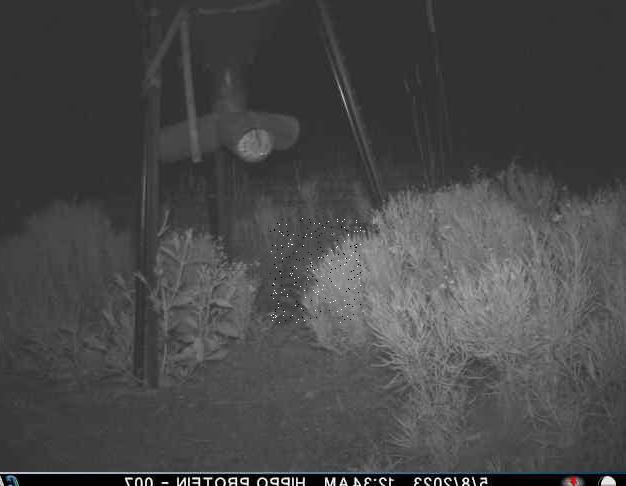Raccoon: (269, 218, 360, 323)
